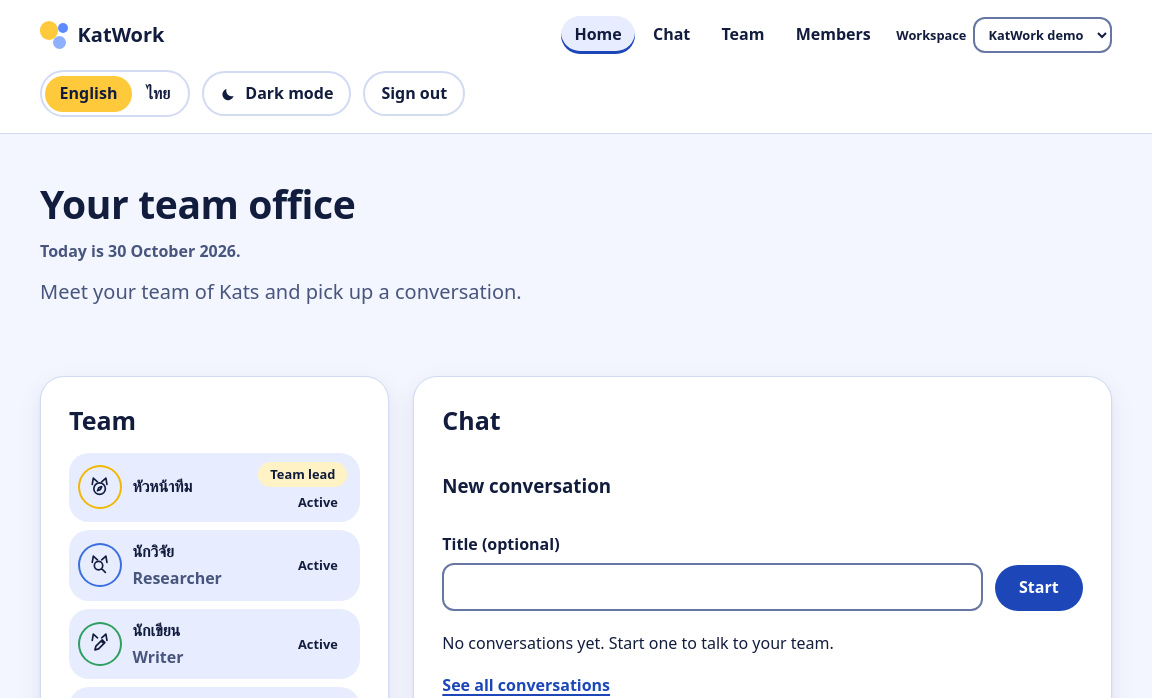
it: workspace_picker_switches_workspace
Expected: the link "Members" is shown, [796,23,871,45]
Select "เดโม" in the dropdown labelled "Workspace". click: (1042, 35)
box: [973,17,1112,53]
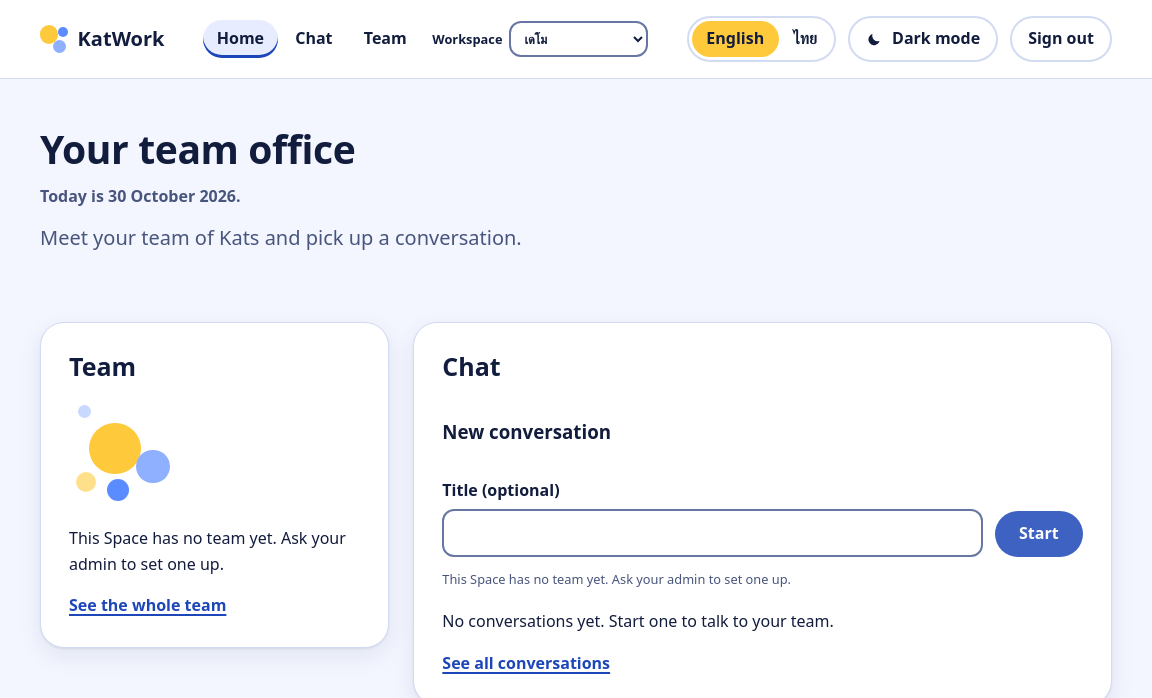
Now the link "Members" is gone
